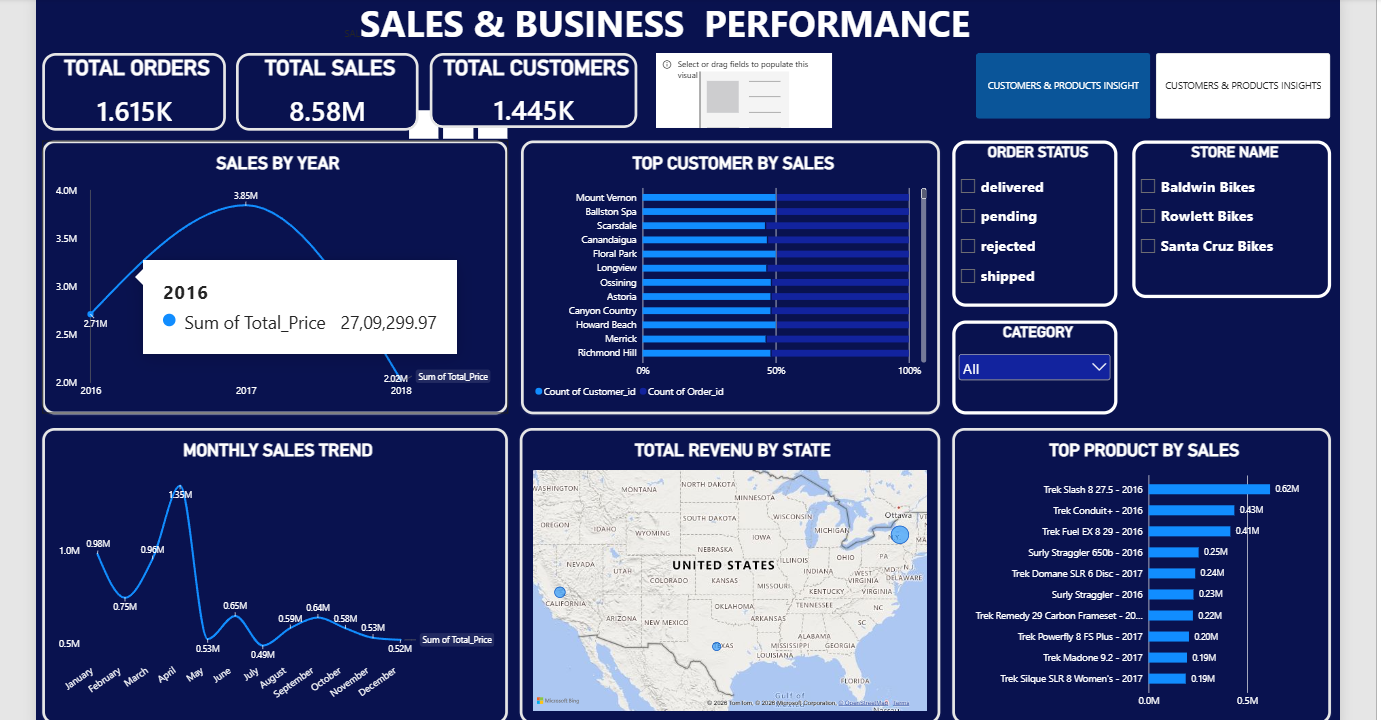

The dashboard page shown, as its layout file describes it:
{"tool":"powerbi","page":{"name":"CUSTOMERS & PRODUCTS INSIGHT","canvas":[1920,1080],"ordinal":0},"visuals":[{"type":"lineChart","title":"SALES BY YEAR","fields":{"Category":["capstone orders.Order_date.Variation.Date Hierarchy.Year"],"Y":["Sum(capstone order_items.Total_Price)"]},"box":[9,209.9,685.9,403.6],"z":0},{"type":"lineChart","title":"MONTHLY SALES TREND","fields":{"Category":["capstone orders.Order_date.Variation.Date Hierarchy.Month"],"Y":["Sum(capstone order_items.Total_Price)"]},"box":[9,633.4,685.9,436.1],"z":1000},{"type":"cardVisual","title":"TOTAL ORDERS","fields":{"Data":["CountNonNull(capstone orders.Order_id)"]},"box":[9.2,81,270.6,114.1],"z":2000},{"type":"barChart","title":"TOP PRODUCT BY SALES","fields":{"Category":["capstone products.Product_name"],"Y":["Sum(capstone order_items.Total_Price)"]},"box":[1350,633.4,557.4,436.1],"z":3000},{"type":"slicer","title":"ORDER STATUS","fields":{"Values":["capstone orders.Order_status"]},"box":[1349.1,209.8,242.9,244.8],"z":4000},{"type":"slicer","title":"STORE NAME","fields":{"Values":["capstone stores.Store_name"]},"box":[1614.1,209.8,292.6,231.9],"z":5000},{"type":"cardVisual","title":"TOTAL SALES","fields":{"Data":["capstone customer_segments.total sales"]},"box":[294.5,81,268.7,114.1],"z":6000},{"type":"textbox","box":[442.7,0,942,72.8],"z":7000},{"type":"hundredPercentStackedBarChart","title":"TOP CUSTOMER BY SALES","fields":{"Category":["capstone customers.City"],"Y":["CountNonNull(capstone customers.Customer_id)","CountNonNull(capstone orders.Order_id)"]},"box":[714.8,209.9,617.1,403.6],"z":8000},{"type":"map","title":"TOTAL REVENU BY STATE","fields":{"Category":["capstone stores.State"],"Size":["Sum(capstone order_items.Total_Price)"]},"box":[713,633.4,618.9,436.1],"z":9000},{"type":"cardVisual","title":"TOTAL CUSTOMERS","fields":{"Data":["CountNonNull(capstone customers.Customer_id)"]},"box":[579.8,81,305.5,110.4],"z":10000},{"type":"pageNavigator","box":[1384.7,80.9,523.6,97],"z":11000},{"type":"slicer","title":"CATEGORY","fields":{"Values":["capstone categories.Category_name"]},"box":[1349.1,474.8,242.9,138],"z":12000},{"type":"cardVisual","box":[912.9,81,259.5,110.4],"z":13000}]}

Visuals, with their boxes in screenshot pixels (x1, y1, x2, y2):
"SALES BY YEAR" lineChart: left=35, top=139, right=502, bottom=414
"MONTHLY SALES TREND" lineChart: left=35, top=428, right=502, bottom=719
"TOTAL ORDERS" cardVisual: left=35, top=52, right=219, bottom=129
"TOP PRODUCT BY SALES" barChart: left=948, top=428, right=1328, bottom=719
"ORDER STATUS" slicer: left=947, top=139, right=1113, bottom=306
"STORE NAME" slicer: left=1128, top=139, right=1327, bottom=297
"TOTAL SALES" cardVisual: left=229, top=52, right=412, bottom=129
textbox: left=330, top=0, right=972, bottom=46
"TOP CUSTOMER BY SALES" hundredPercentStackedBarChart: left=515, top=139, right=936, bottom=414
"TOTAL REVENU BY STATE" map: left=514, top=428, right=936, bottom=719
"TOTAL CUSTOMERS" cardVisual: left=424, top=52, right=632, bottom=127
pageNavigator: left=972, top=51, right=1328, bottom=118
"CATEGORY" slicer: left=947, top=320, right=1113, bottom=414
cardVisual: left=650, top=52, right=827, bottom=127
